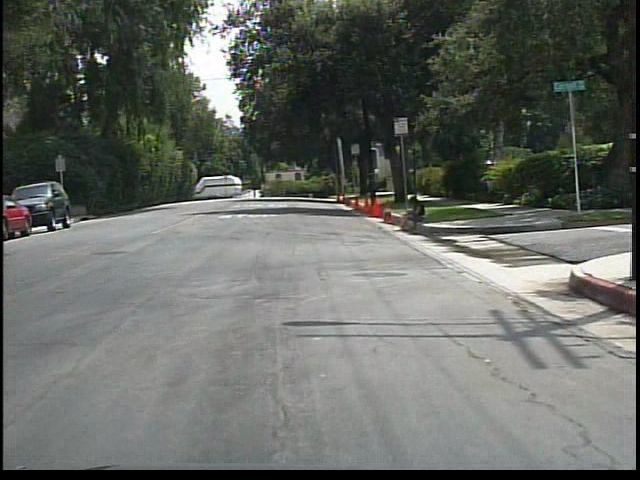person: (394, 191, 429, 237)
